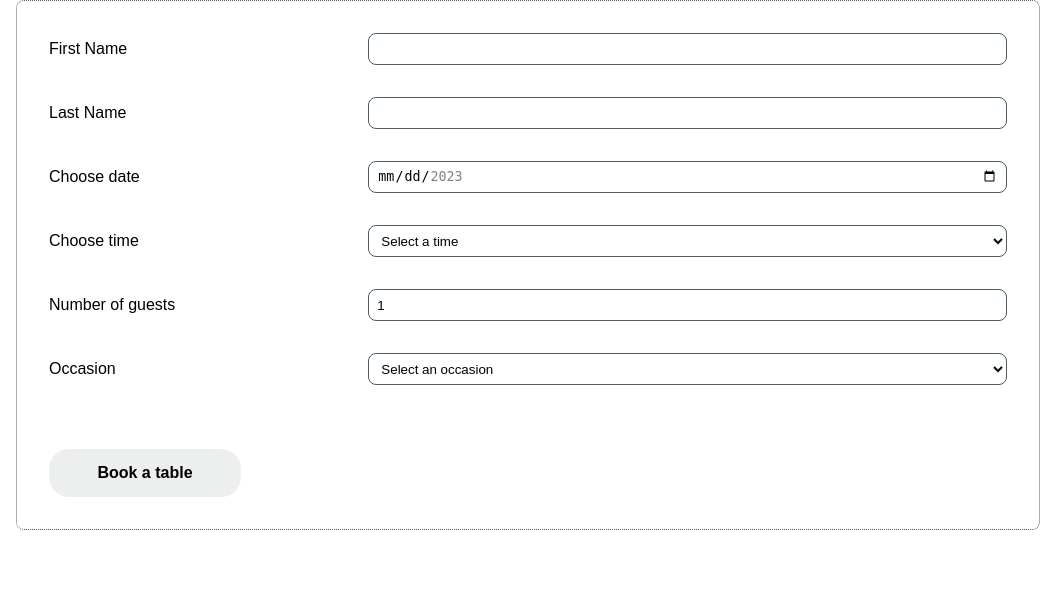
BookingForm › valid form › should not clear form when submission fails
In the field labelled "First Name": coordinates (688, 49) [368, 33, 1007, 65], type "John"
In the field labelled "Last Name": coordinates (688, 113) [368, 97, 1007, 129], type "Dee"
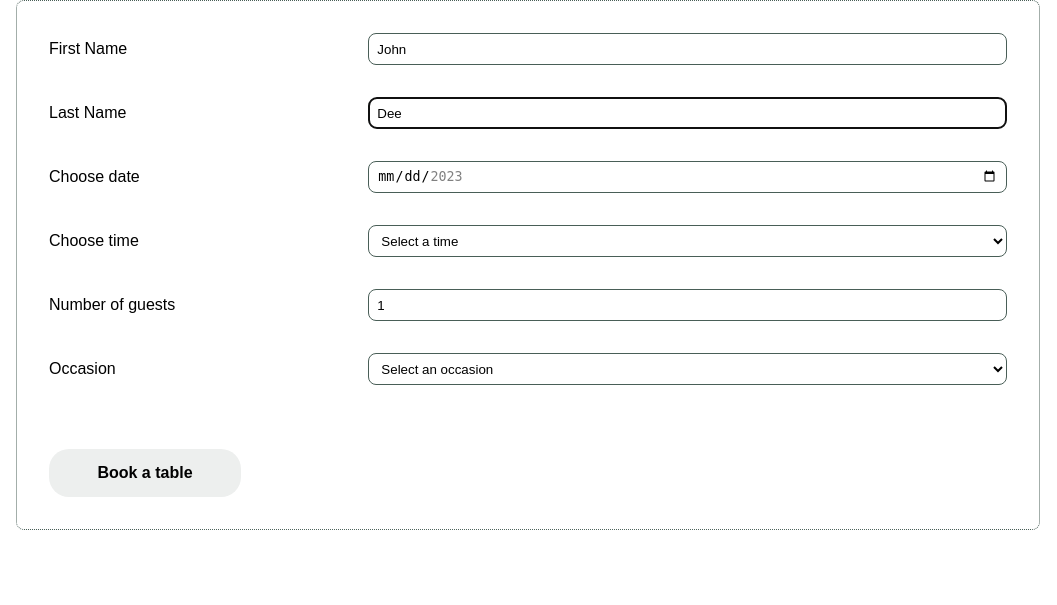
In the date field labelled "Choose date": coordinates (688, 177) [368, 161, 1007, 193], type "2023-06-20"
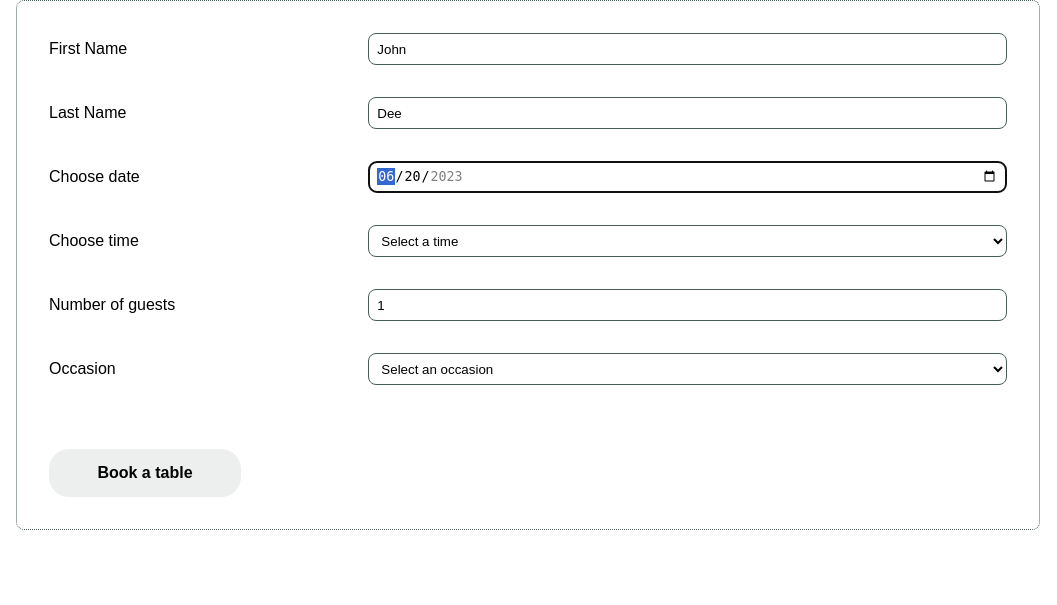
Select "17:00" in the dropdown labelled "Choose time": coordinates (688, 241) [368, 225, 1007, 257]
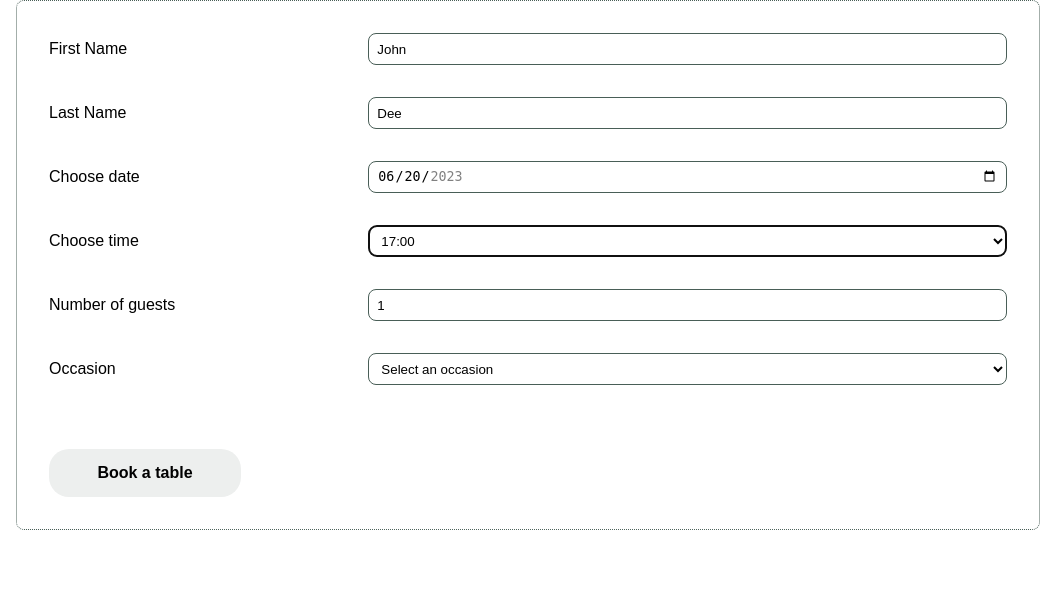
In the number field labelled "Number of guests": coordinates (688, 305) [368, 289, 1007, 321], type "2"
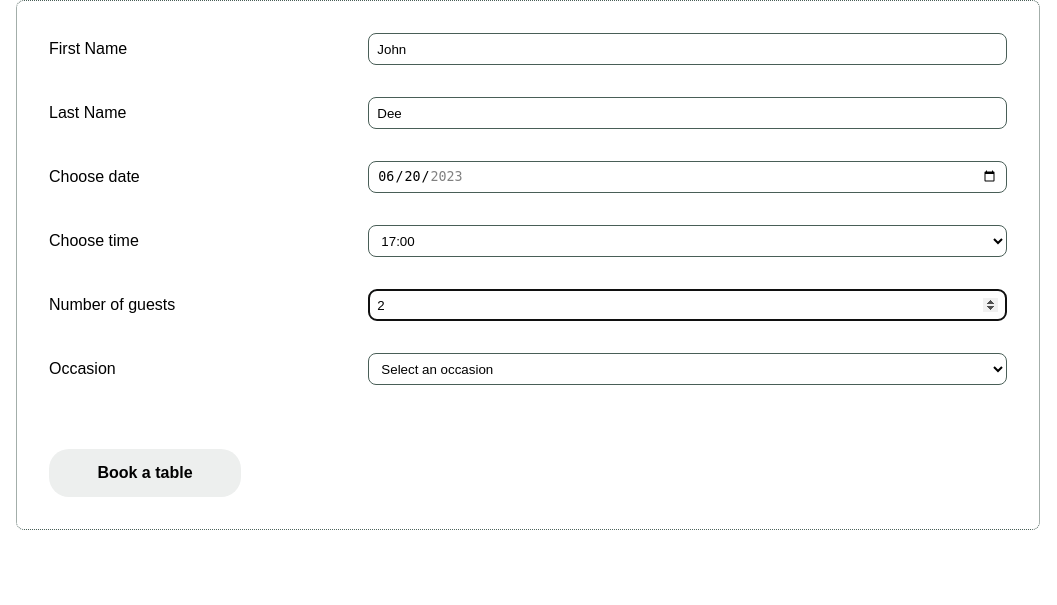
Select "Birthday" in the dropdown labelled "Occasion": coordinates (688, 369) [368, 353, 1007, 385]
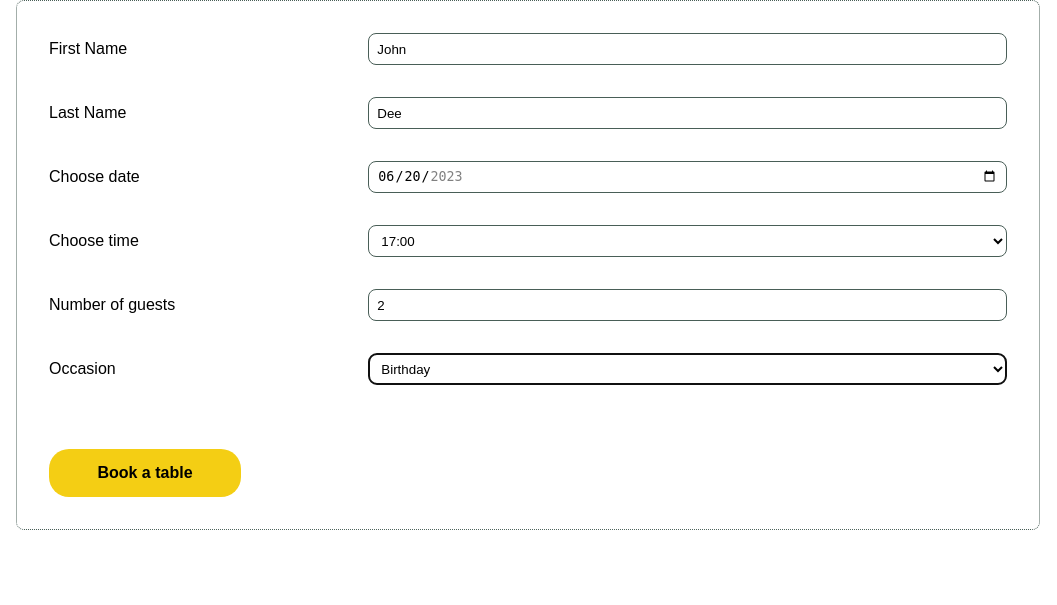
Click the button "Book a table": coordinates (145, 473) [49, 449, 241, 497]
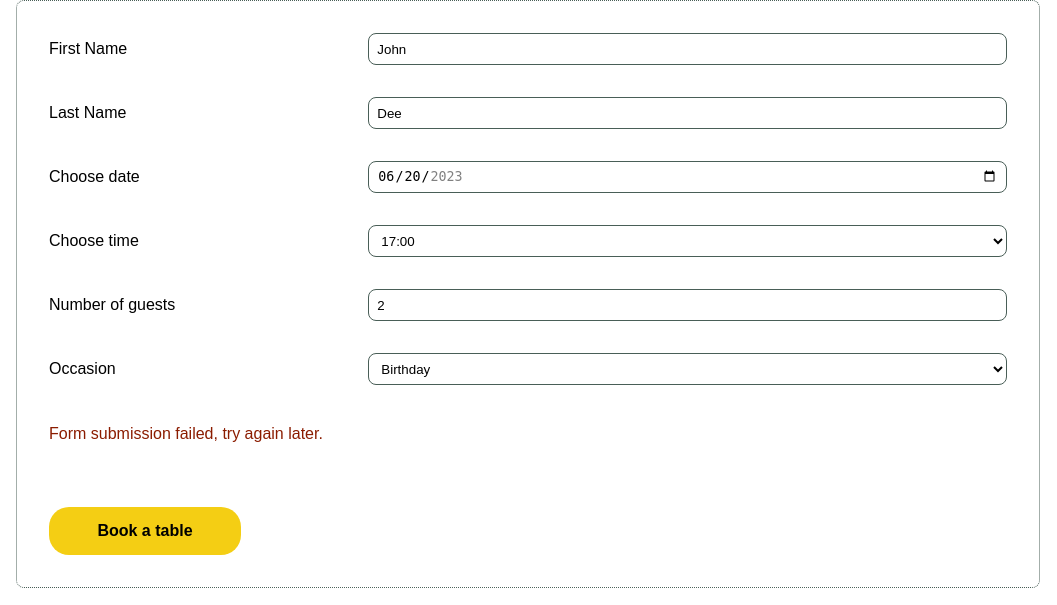
Check: the text "Form submission failed, try again later." is shown, box [49, 425, 323, 442]
